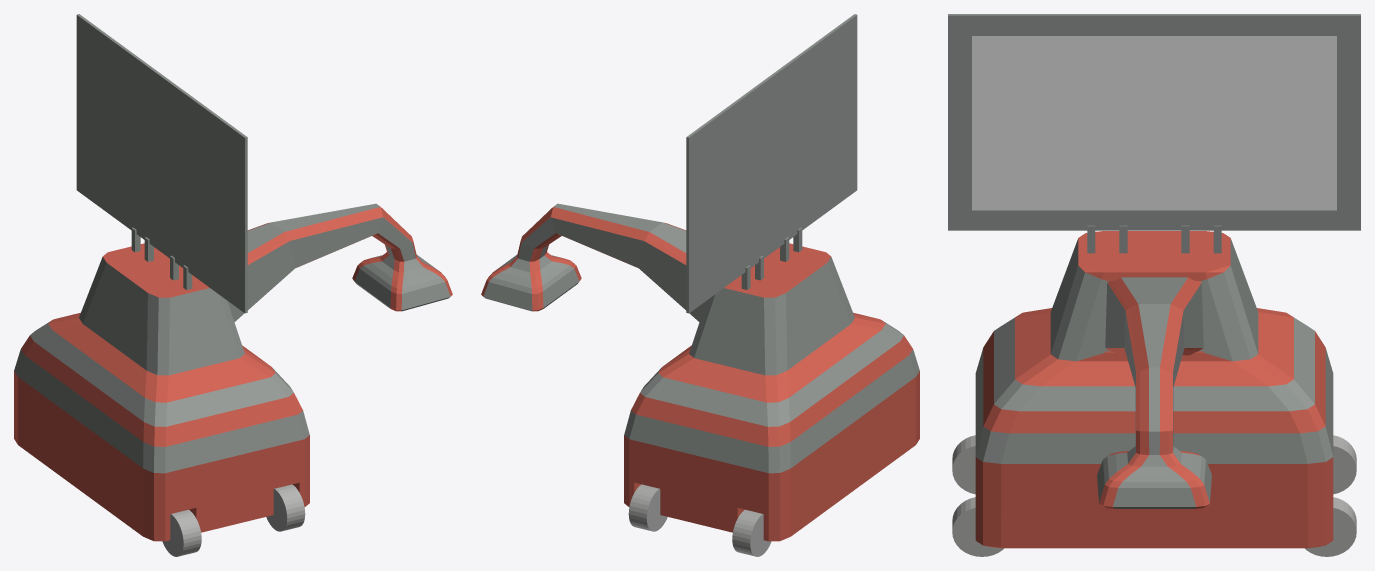
File: RecyclingUnit.fbx
The picture shows the model from 3 angles, left to right: view 1: azimuth 30°, elevation 25°; view 2: azimuth 150°, elevation 25°; view 3: azimuth 270°, elevation 25°; orthographic projection. The views are drawn at different scales.
Parts seen in each view (by area): view 1: Building, Billboard, Crane, Wheels; view 2: Building, Billboard, Crane, Wheels; view 3: Billboard, Building, Crane, Wheels.
Part boxes in pixels (left/top/right/bottom): Building: left=14, top=243, right=309, bottom=541; Billboard: left=76, top=14, right=247, bottom=313; Crane: left=227, top=203, right=452, bottom=321; Wheels: left=162, top=484, right=305, bottom=556; Building: left=624, top=243, right=919, bottom=541; Billboard: left=686, top=14, right=857, bottom=313; Crane: left=481, top=203, right=706, bottom=321; Wheels: left=628, top=484, right=771, bottom=556; Billboard: left=948, top=14, right=1360, bottom=253; Building: left=975, top=231, right=1333, bottom=548; Crane: left=1097, top=277, right=1211, bottom=508; Wheels: left=952, top=435, right=1356, bottom=556.
Bounding box in the file's own units: 16.73 × 18.7 × 13.83.
